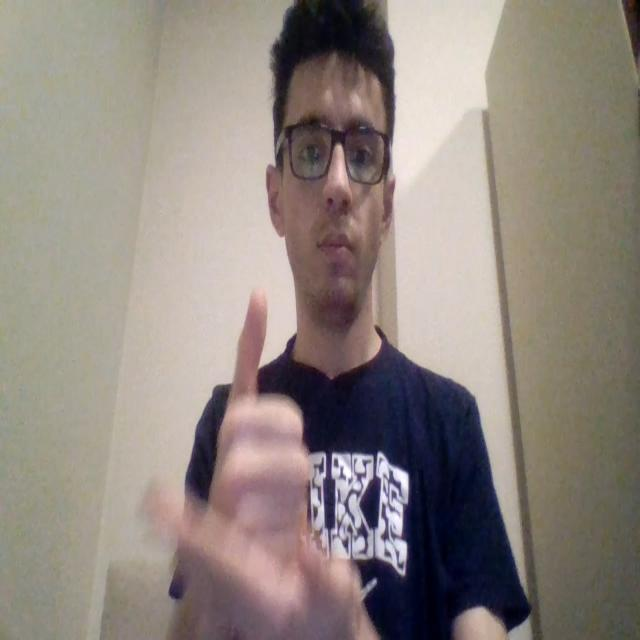help: (143, 287, 368, 640)
